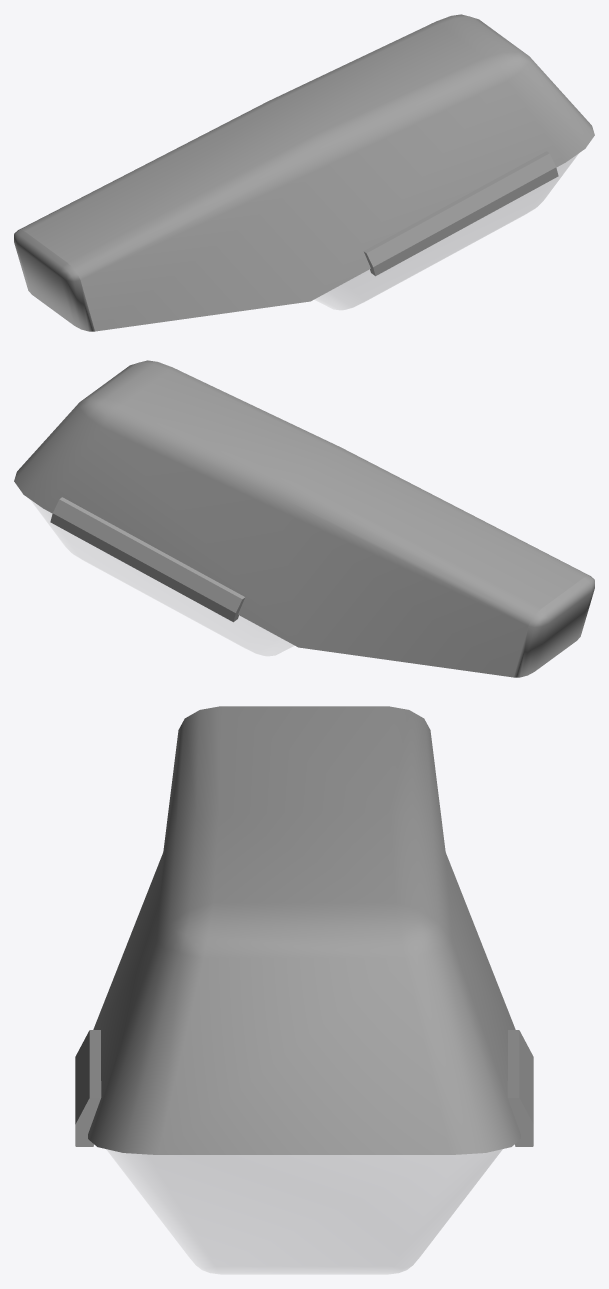
The model's file is Koffer_150.glb.
3 views of the same model, one above another, from view 1: azimuth 30°, elevation 25°; view 2: azimuth 150°, elevation 25°; view 3: azimuth 270°, elevation 25° (orthographic). The views are drawn at different scales.
Visible parts, largest first — view 1: Cube, BezierCurve, Glas; view 2: Cube, BezierCurve, Glas; view 3: Cube, Glas, BezierCurve.
Part boxes in pixels (left/top/right/bottom): Cube: left=14, top=14, right=594, bottom=331; BezierCurve: left=363, top=151, right=558, bottom=276; Glas: left=315, top=154, right=577, bottom=309; Cube: left=14, top=360, right=594, bottom=677; BezierCurve: left=50, top=497, right=245, bottom=622; Glas: left=31, top=500, right=293, bottom=655; Cube: left=88, top=706, right=520, bottom=1154; Glas: left=107, top=1149, right=501, bottom=1274; BezierCurve: left=75, top=1030, right=533, bottom=1146.
Size of the model in its own units: 0.8487 by 0.3432 by 0.3261.
Materials: 3 (2 with a texture image).
